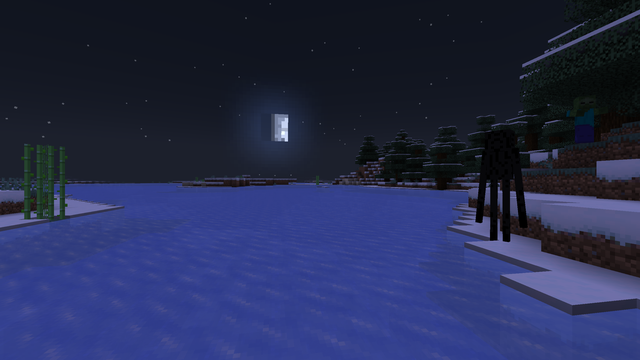endermens: (479, 125, 520, 248)
zombies: (569, 96, 598, 135)
